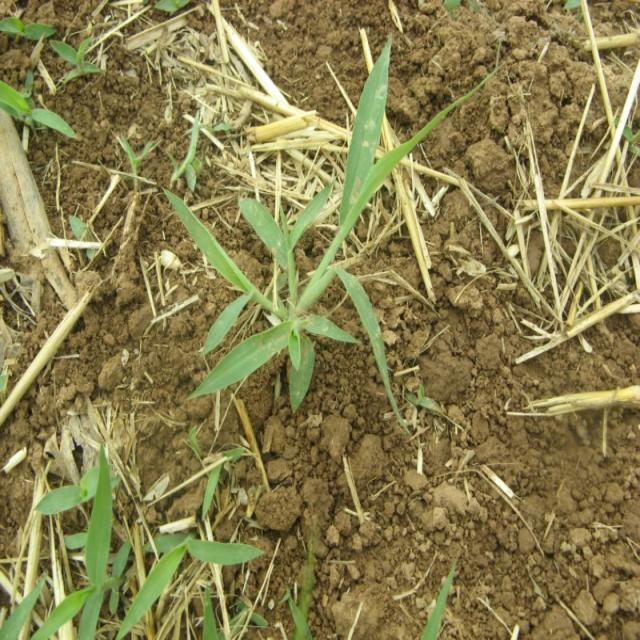bg: (166, 47, 410, 414)
